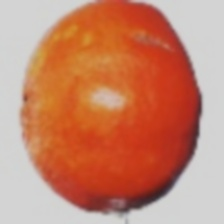tangerine: (32, 53, 224, 192)
